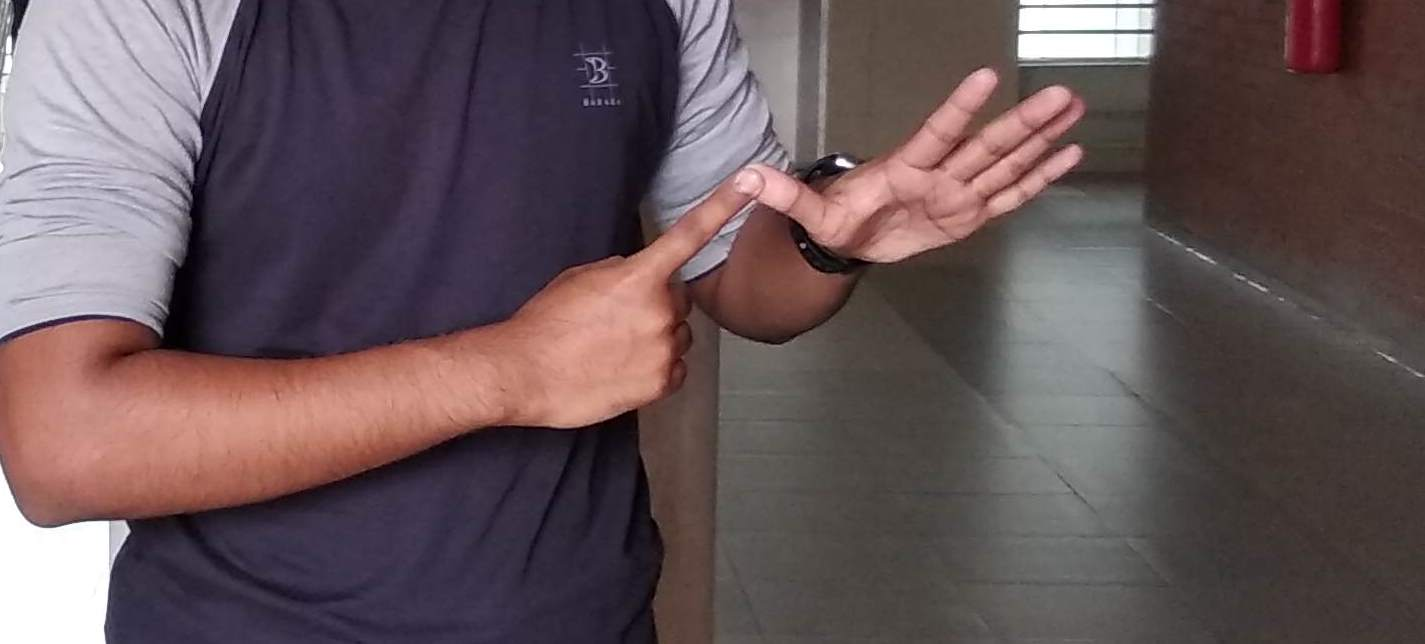a: (630, 66, 1073, 445)
